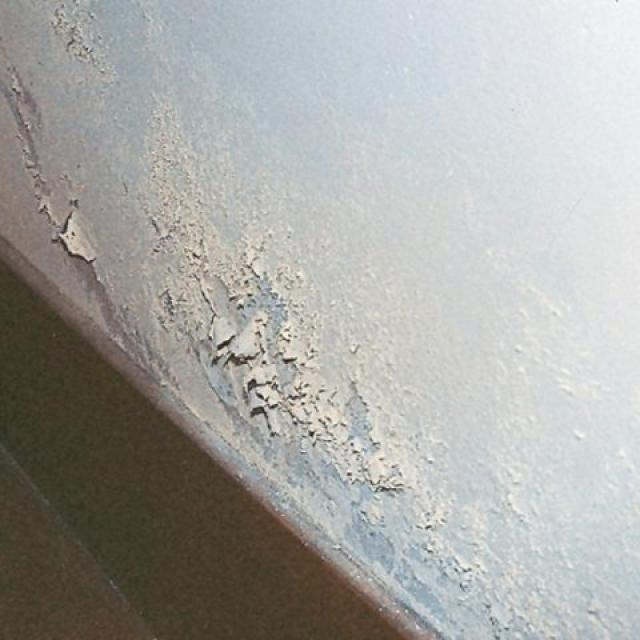Water_Leakage: (10, 7, 632, 632)
